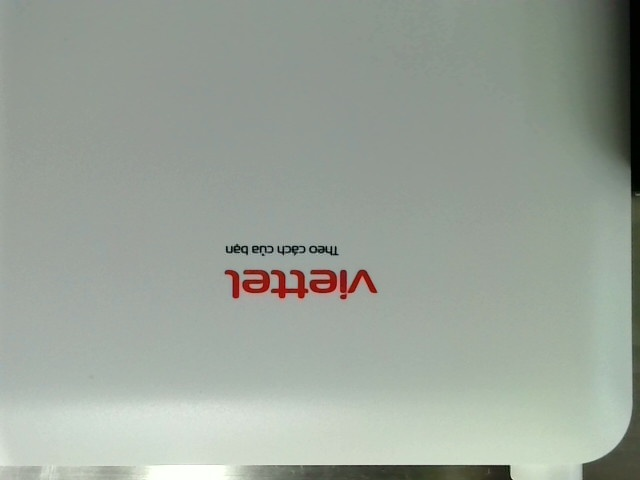AY_Viettel: (216, 239, 385, 302)
